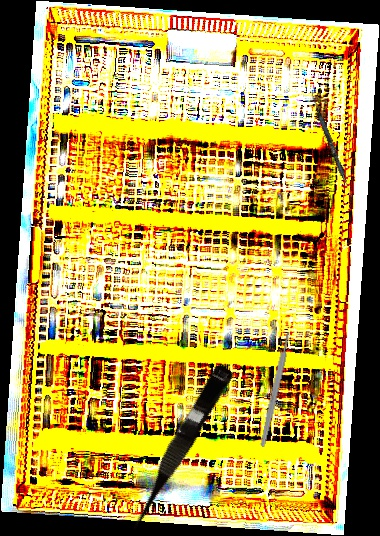Micro Scissor: (121, 361, 235, 535)
Scalpel Handle: (258, 331, 293, 448)
Spatula Surgical: (307, 92, 358, 204)
